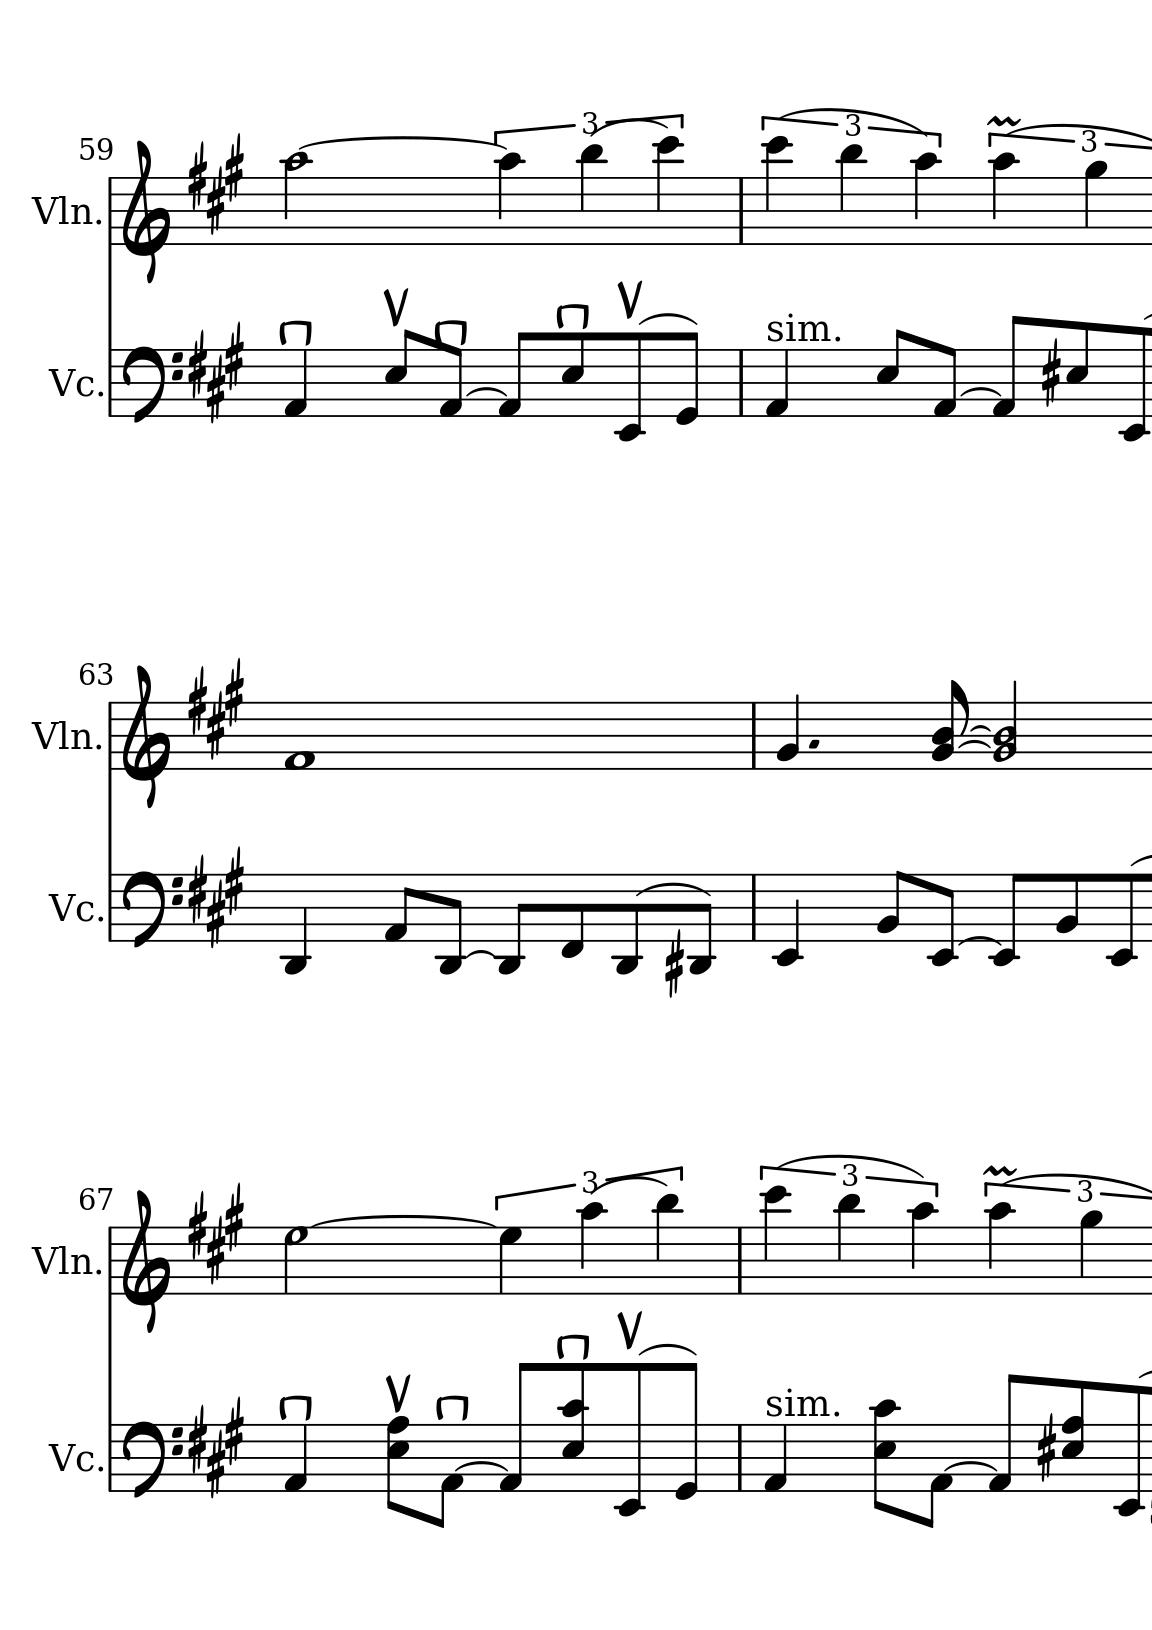1_1: (282, 698, 315, 775)
2_10: (281, 150, 309, 247)
2_2_4: (991, 680, 1019, 773)
2_7: (281, 1225, 309, 1296)
3: (838, 1161, 860, 1188), (1073, 1179, 1095, 1206), (842, 113, 863, 140), (578, 1168, 598, 1194), (1078, 130, 1098, 155), (96, 660, 113, 687), (581, 110, 598, 135)
4_-2: (770, 871, 800, 970)
4_-3: (279, 869, 310, 979)
4_1: (761, 1423, 789, 1495), (281, 348, 309, 419), (762, 348, 790, 419), (281, 1423, 308, 1494)
4_10: (987, 150, 1020, 248), (906, 1199, 939, 1297), (984, 1200, 1016, 1297), (910, 150, 941, 248), (577, 1200, 607, 1299), (495, 150, 525, 247)
4_11: (577, 143, 607, 248), (837, 142, 866, 247), (834, 1193, 864, 1296), (652, 1193, 681, 1296)
4_12: (762, 135, 793, 248), (761, 1185, 792, 1297), (652, 137, 682, 248)
4_2: (775, 692, 800, 771)
4_7: (497, 1225, 524, 1295)
4_9: (1077, 1209, 1105, 1297), (1082, 160, 1110, 247)
5: (77, 135, 94, 163)
6: (77, 660, 96, 687), (77, 1185, 95, 1213)
7: (96, 1185, 113, 1213)
8_-1: (557, 872, 586, 961)
8_-2: (613, 1362, 645, 1522), (1111, 1385, 1145, 1519), (1115, 325, 1150, 444), (987, 871, 1029, 970), (613, 330, 646, 444), (1105, 871, 1136, 970), (928, 872, 958, 968)
8_-3: (495, 871, 530, 976), (611, 874, 642, 977), (435, 872, 465, 976), (687, 874, 714, 976)
8_0: (672, 1361, 699, 1503), (673, 330, 699, 427)
8_1: (495, 1361, 537, 1495), (986, 1371, 1024, 1495), (989, 313, 1026, 421), (920, 1421, 954, 1532), (431, 1421, 464, 1532), (495, 331, 531, 420), (382, 874, 414, 945), (930, 343, 958, 419), (436, 346, 464, 419)
8_2: (875, 869, 906, 943), (1054, 872, 1080, 945)
8_2_4: (930, 679, 970, 773)
8_5: (873, 328, 906, 419), (382, 330, 414, 419), (1063, 320, 1088, 420), (559, 331, 586, 419)
8_5_10: (557, 1362, 592, 1495), (869, 1397, 901, 1515)
8_5_8: (1060, 1377, 1087, 1494), (385, 1414, 411, 1517)
9: (95, 135, 113, 163)
A_S: (186, 1180, 246, 1284), (187, 842, 246, 946), (186, 658, 246, 759), (187, 1394, 247, 1495), (186, 133, 246, 233), (188, 320, 246, 422)
Down_bow: (276, 1393, 314, 1422), (554, 1333, 593, 1361), (554, 303, 591, 331), (431, 1394, 470, 1422), (277, 318, 313, 346)
Fclef: (121, 345, 183, 427), (121, 870, 183, 951), (121, 1419, 183, 1500)
Gclef: (120, 660, 173, 809), (120, 136, 172, 285), (120, 1186, 172, 1333)
Sharp: (1035, 1413, 1057, 1484), (1039, 341, 1061, 407), (663, 935, 684, 998)
ShortTrill: (986, 113, 1022, 128), (982, 1163, 1017, 1176)
Single_barline: (746, 703, 763, 769), (733, 350, 749, 417), (732, 1424, 748, 1490), (733, 179, 749, 242), (746, 875, 761, 941), (732, 1227, 747, 1292), (103, 702, 116, 771), (103, 350, 116, 416), (103, 875, 116, 941), (103, 1424, 116, 1490), (103, 177, 115, 245), (103, 1227, 115, 1295)
Slur: (586, 118, 670, 138), (586, 1178, 673, 1194), (635, 884, 711, 900), (637, 312, 699, 328), (636, 1341, 697, 1357), (453, 1461, 507, 1473), (943, 1461, 997, 1473), (958, 935, 1002, 948), (465, 386, 507, 398), (958, 738, 991, 750), (960, 388, 1001, 398), (962, 733, 992, 744), (465, 950, 497, 960), (965, 727, 992, 734)
Tremolo_bar: (383, 1371, 413, 1414), (613, 1308, 643, 1351), (380, 287, 410, 326), (616, 279, 643, 320)
Vln: (30, 189, 94, 233), (31, 714, 94, 758), (31, 1240, 94, 1282)
dot: (805, 736, 822, 751)
